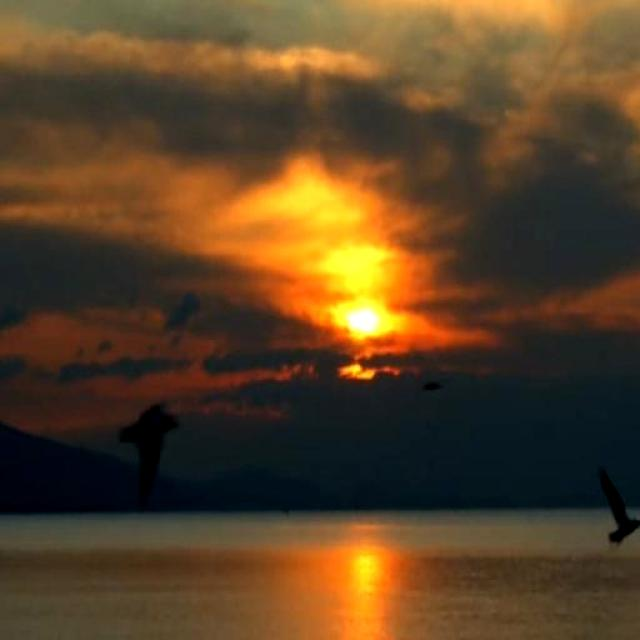airplane: (106, 382, 178, 500), (590, 448, 640, 559)
